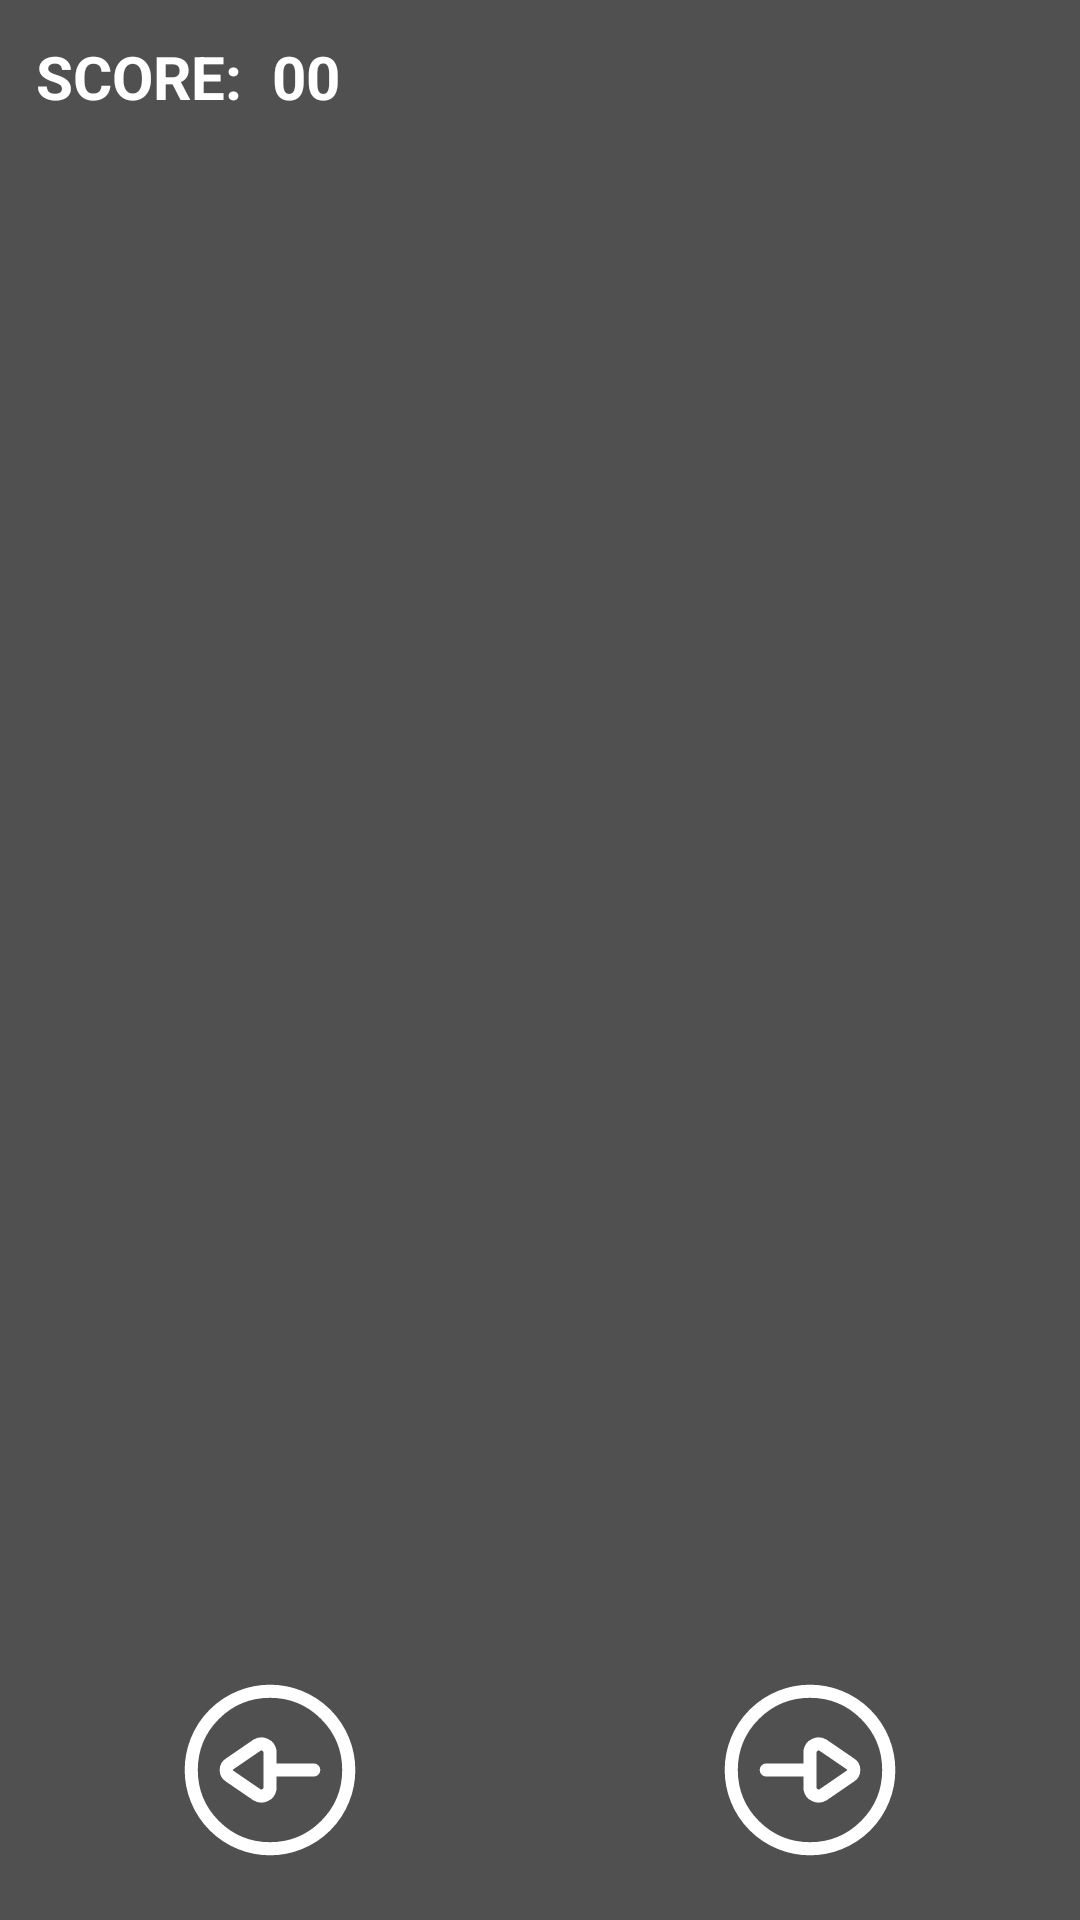

Named icons in this screenshot (1080x1920) and their centers, (x=x, y=y):
arrowleft: (x=270, y=1770)
arrowright: (x=810, y=1770)
